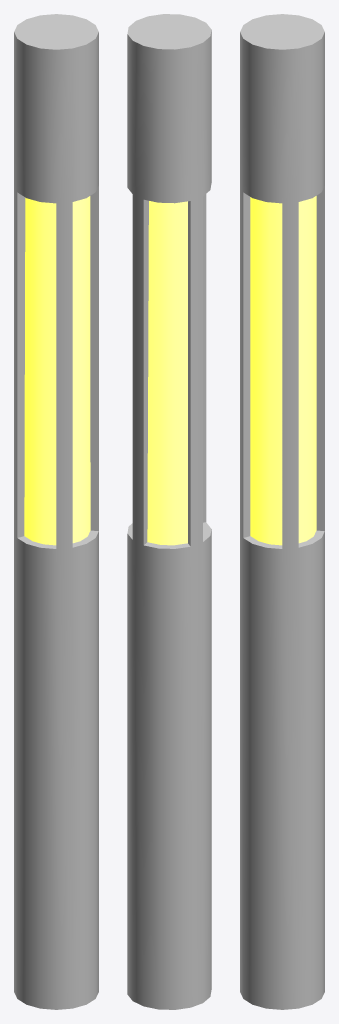
File: Project Osmantus Wine - Lamp.fbx
3 views of the same model, side by side, from view 1: azimuth 90°, elevation 25°; view 2: azimuth 210°, elevation 25°; view 3: azimuth 270°, elevation 25° (orthographic).
Parts seen in each view (by area): view 1: Lamp; view 2: Lamp; view 3: Lamp.
Boxes of the visible parts, <box> form: Lamp: <box>14,14,98,1009</box>; Lamp: <box>127,14,211,1009</box>; Lamp: <box>240,14,324,1009</box>.
Bounding box in the file's own units: 20 × 250 × 20.
